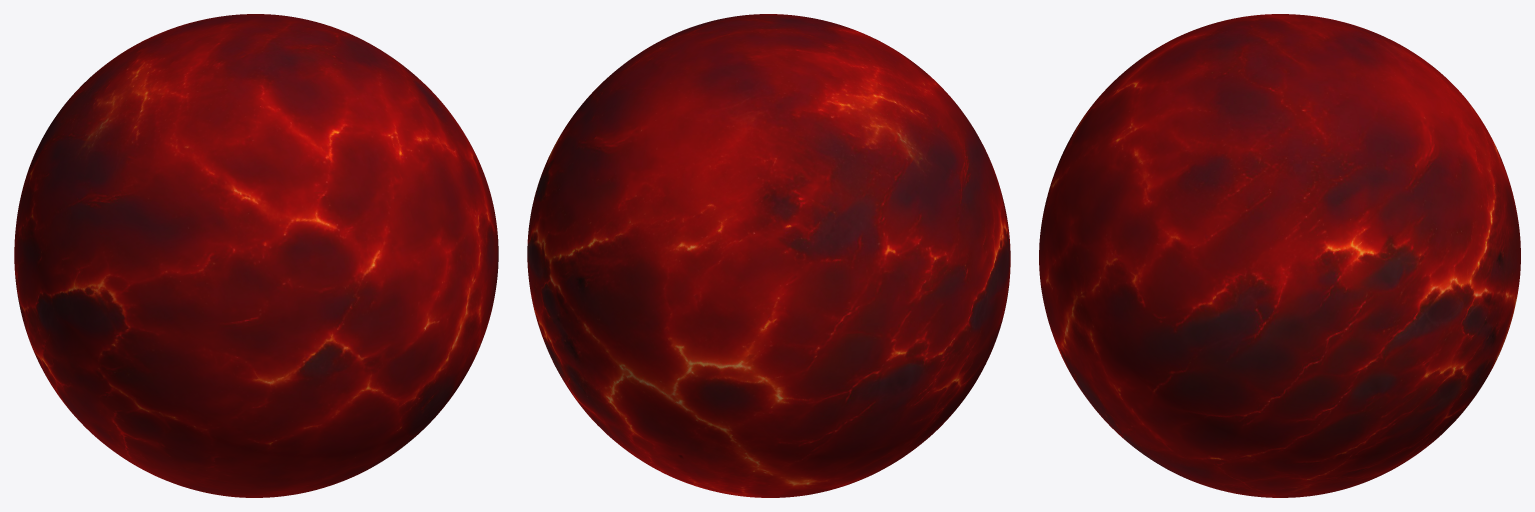
File: sun.glb
3 views of the same model, side by side, from view 1: azimuth 30°, elevation 25°; view 2: azimuth 150°, elevation 25°; view 3: azimuth 270°, elevation 25° (orthographic).
Visible parts, largest first — view 1: material; view 2: material; view 3: material.
Boxes of the visible parts, left/top/right/bottom form: material: left=14, top=14, right=498, bottom=497; material: left=527, top=14, right=1010, bottom=497; material: left=1039, top=14, right=1520, bottom=497.
Size of the model in its own units: 1.19 by 1.19 by 1.18.
Materials: 1 (1 with a texture image).
